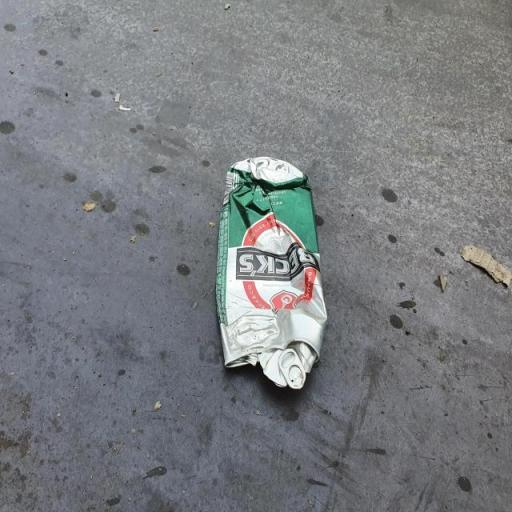metal: (199, 142, 338, 416)
